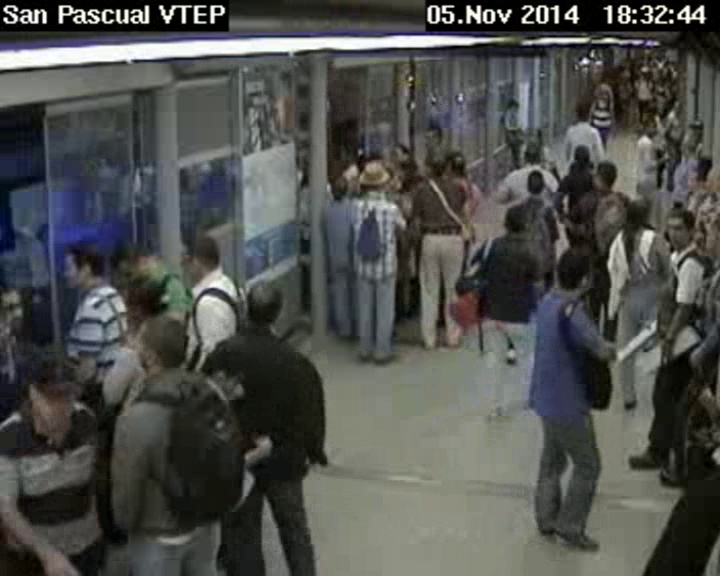person: (23, 347, 78, 432), (130, 312, 186, 372), (117, 274, 182, 311), (63, 237, 107, 290), (550, 236, 592, 288), (240, 279, 280, 330), (181, 232, 220, 280), (111, 236, 155, 271), (620, 190, 656, 231), (662, 204, 697, 245), (360, 151, 386, 196), (500, 204, 533, 237), (591, 153, 618, 193), (1, 278, 23, 325), (700, 188, 720, 236), (418, 124, 445, 152), (527, 165, 549, 199), (573, 140, 595, 172), (705, 165, 720, 202), (329, 173, 351, 198), (425, 152, 447, 177), (446, 149, 466, 172), (522, 141, 541, 165), (688, 118, 705, 141), (390, 141, 409, 161), (596, 81, 614, 102), (505, 95, 521, 115), (577, 105, 592, 126), (643, 119, 659, 138), (673, 99, 683, 112), (671, 117, 681, 128), (639, 70, 649, 80), (656, 76, 667, 85)
